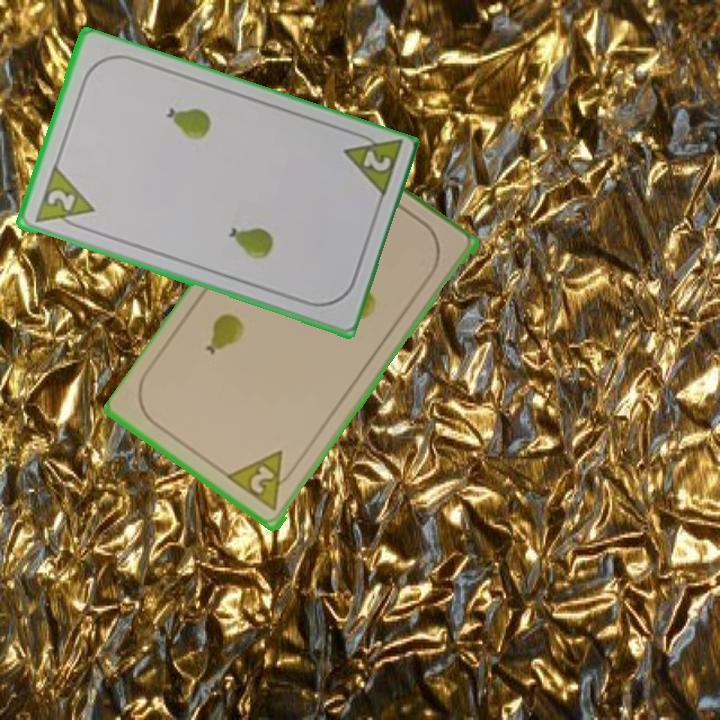2p: (225, 447, 300, 515), (338, 128, 404, 203), (30, 163, 97, 234)
